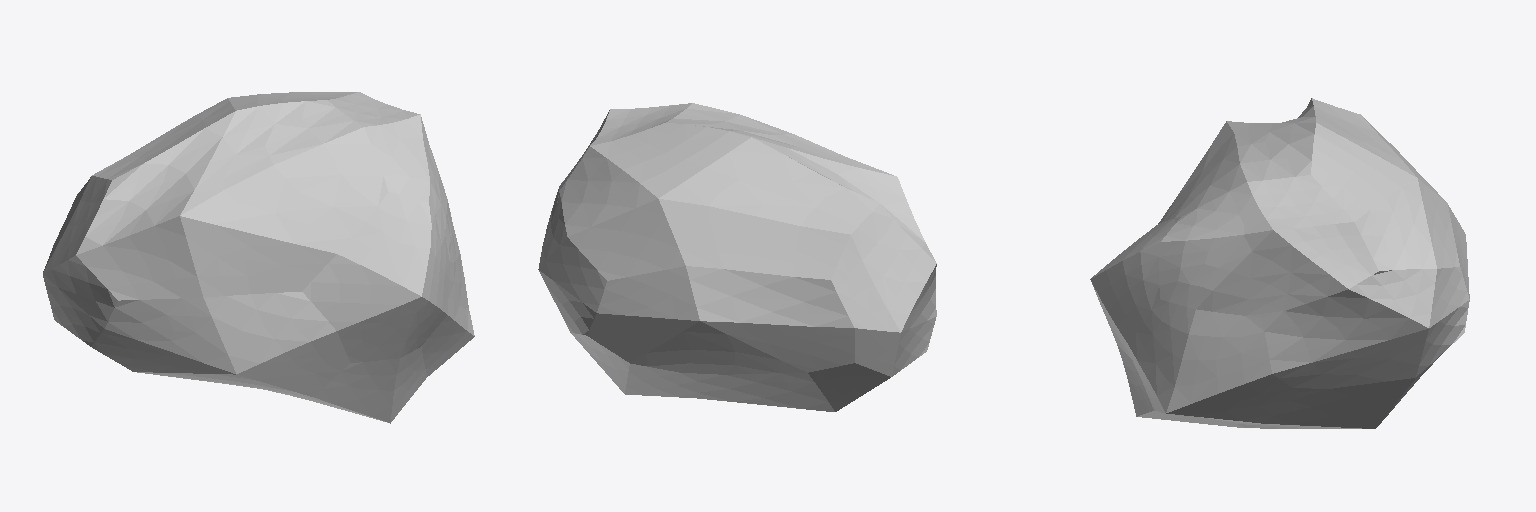
File: stone_2.obj
The picture shows the model from 3 angles: view 1: azimuth 30°, elevation 25°; view 2: azimuth 150°, elevation 25°; view 3: azimuth 270°, elevation 25°; orthographic projection.
Parts seen in each view (by area): view 1: polySurface247 polySurface67; view 2: polySurface247 polySurface67; view 3: polySurface247 polySurface67.
Part boxes in pixels (bbox=[...]): polySurface247 polySurface67: bbox=[43, 92, 474, 423]; polySurface247 polySurface67: bbox=[538, 103, 936, 411]; polySurface247 polySurface67: bbox=[1090, 98, 1469, 428].
Bounding box in the file's own units: 10.01 × 7.26 × 9.42.